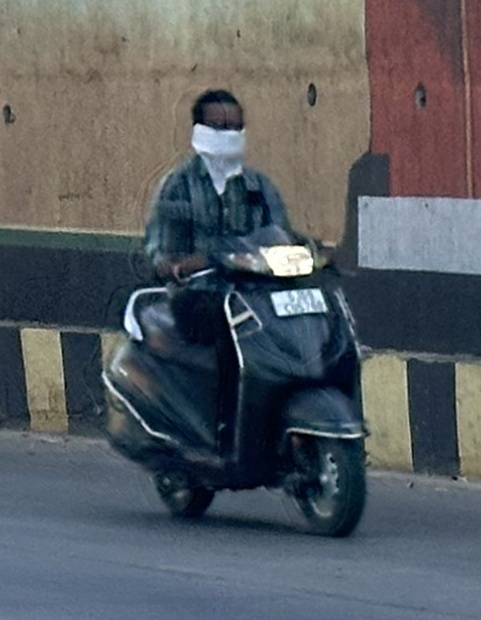BikeWithRider: (95, 87, 371, 542)
NoHelmet: (186, 89, 250, 165)
